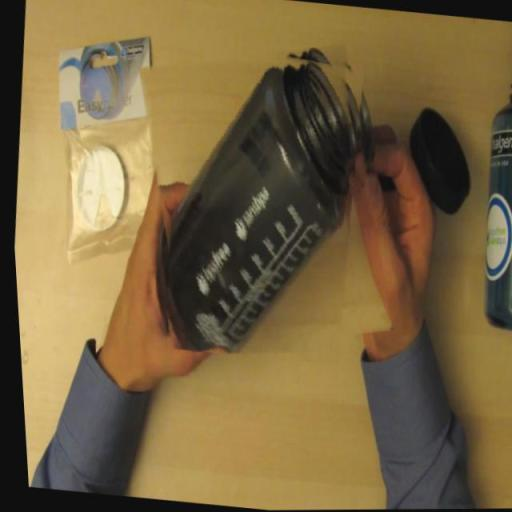bottle: (164, 58, 356, 352)
